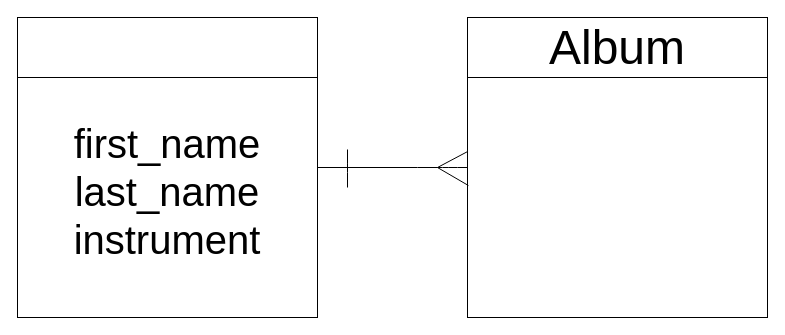
Some shapes in this 785 by 335 pixel diagram are drawn without their labels. Here are the shapes that lost their labels. From the top down, the box of each, then its label:
(16, 16, 318, 78): Musician
(466, 16, 768, 318): artist name release_date num_stars
